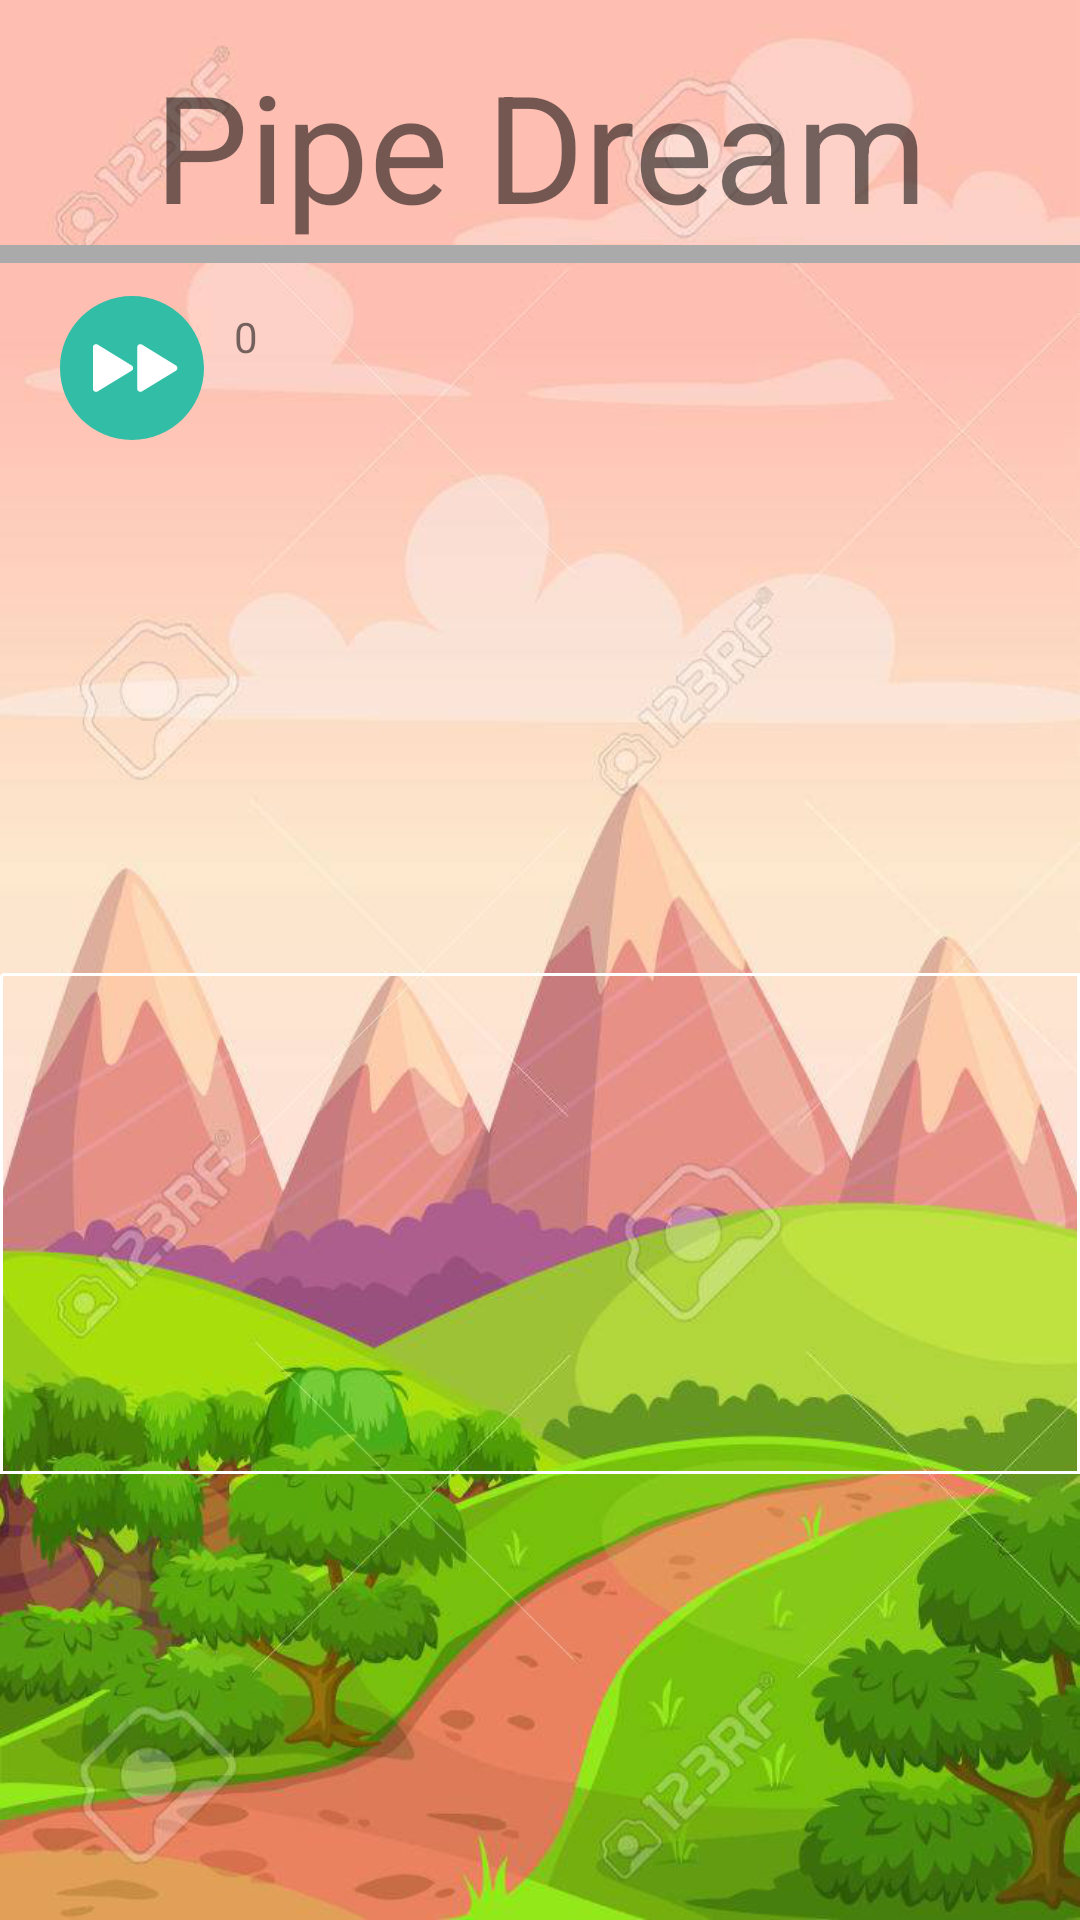

Icon click points for this 1080px×1920px phone screenshot, format (x,y):
fast forward: (132,368)
